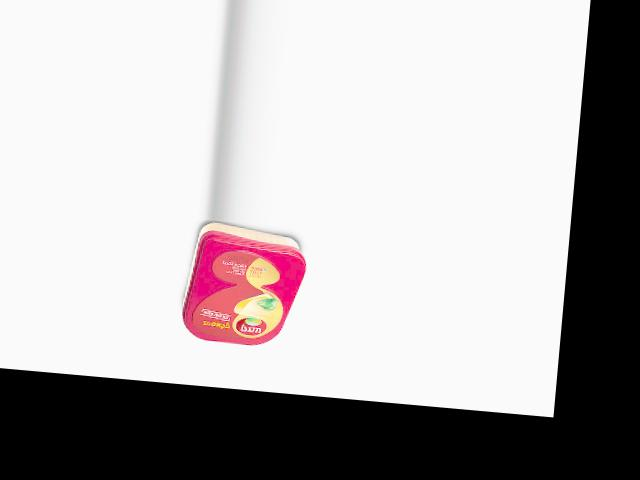cheese: (179, 220, 309, 349)
